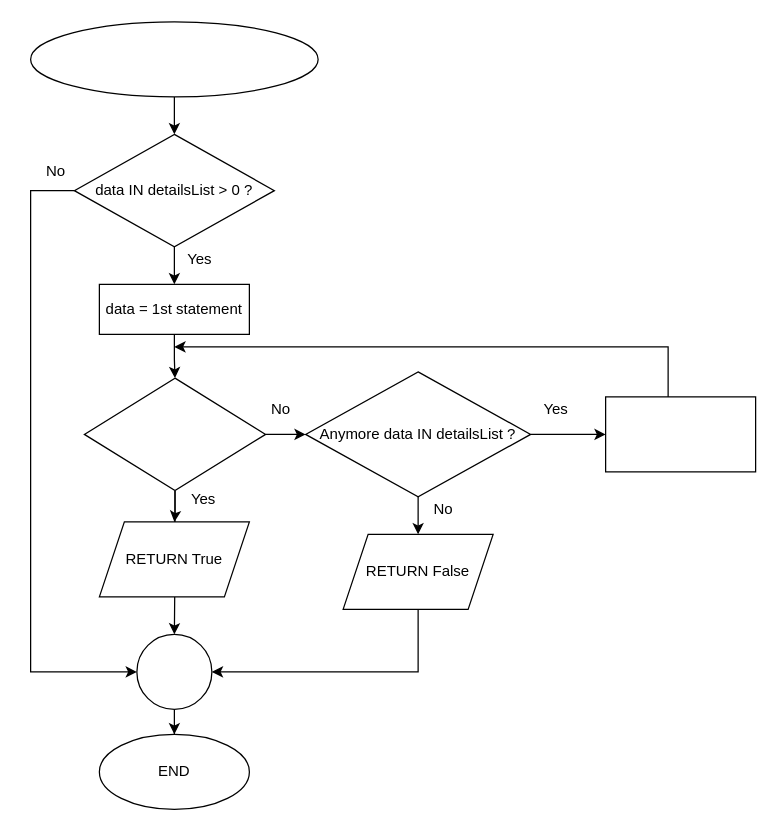
The diagram is 778 pixels wide and 831 high, and some of its shapes have lost their labels. The shapes that lost their labels are listed below. From the top down, each one's centre as x and y in pixels, then its label:
the point at 173,59: authUsername(username, detailsList)
the point at 174,434: username == data[0] ?
the point at 680,434: data = NEXT statement
